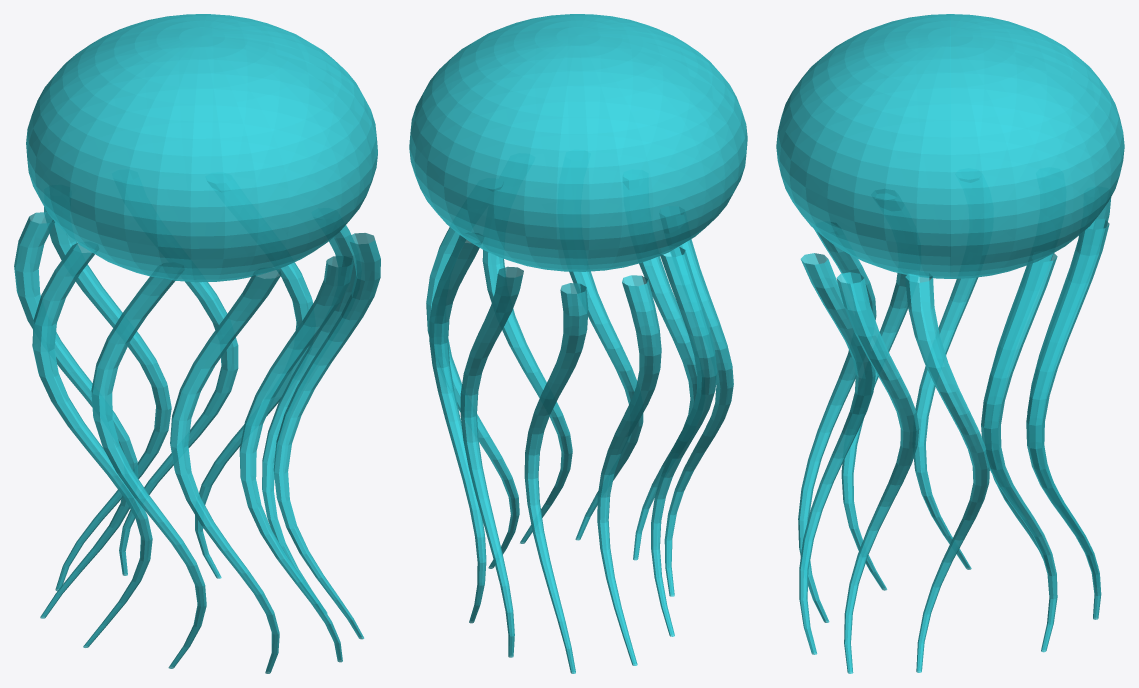
File: jellyfish_agent.obj
3 renders of one model, left to right at view 1: azimuth 30°, elevation 25°; view 2: azimuth 150°, elevation 25°; view 3: azimuth 270°, elevation 25°, orthographic. The views are drawn at different scales.
Parts seen in each view (by area): view 1: jellyfish_agent; view 2: jellyfish_agent; view 3: jellyfish_agent.
Boxes of the visible parts, box(x1,y1,x2,y2) form: jellyfish_agent: box(14, 14, 380, 673); jellyfish_agent: box(409, 14, 747, 673); jellyfish_agent: box(776, 14, 1124, 673).
Size of the model in its own units: 2.03 by 3.7 by 2.
